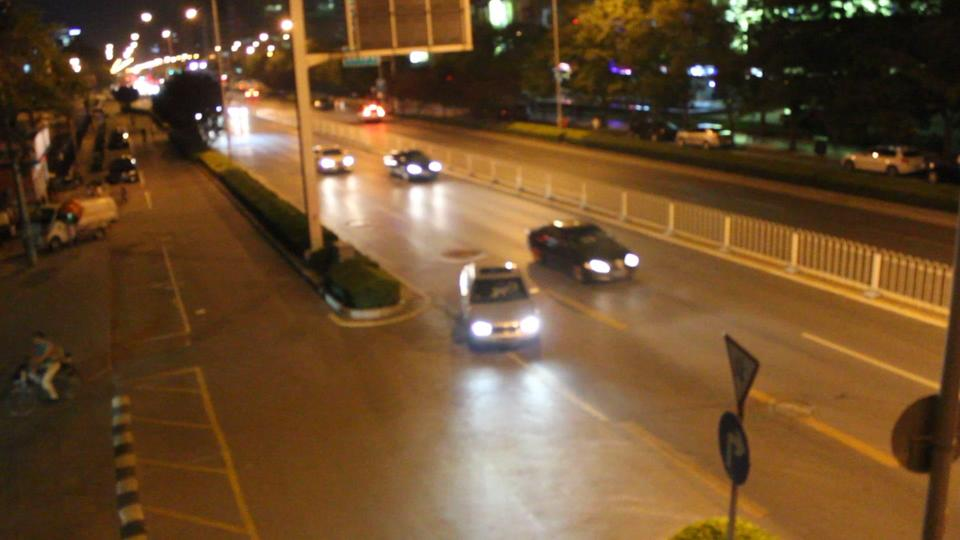car: (455, 258, 545, 352), (526, 217, 642, 285), (316, 254, 419, 323), (40, 191, 119, 252), (842, 144, 936, 178), (382, 148, 444, 182), (314, 145, 357, 175), (930, 151, 960, 184), (107, 157, 138, 188), (112, 123, 141, 148), (357, 101, 387, 123)
